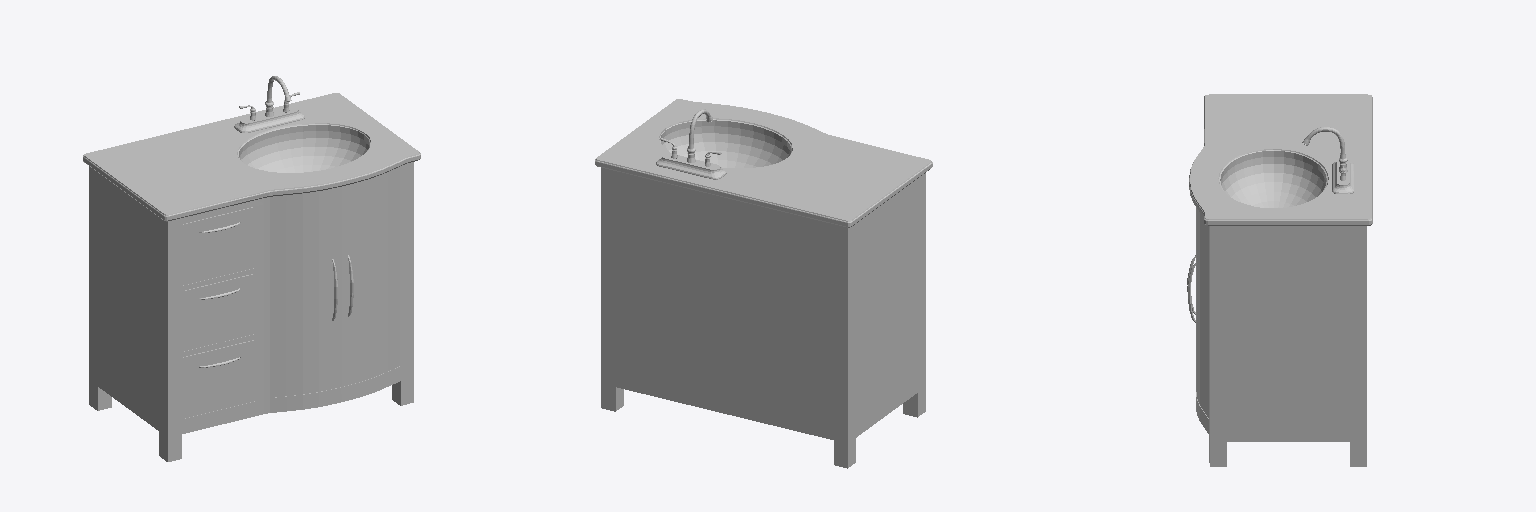
File: Marble_Bathroom_Sink.obj
3 renders of one model, left to right at view 1: azimuth 30°, elevation 25°; view 2: azimuth 150°, elevation 25°; view 3: azimuth 270°, elevation 25°, orthographic.
Bounding box in the file's own units: 80.36 × 90.11 × 50.16.